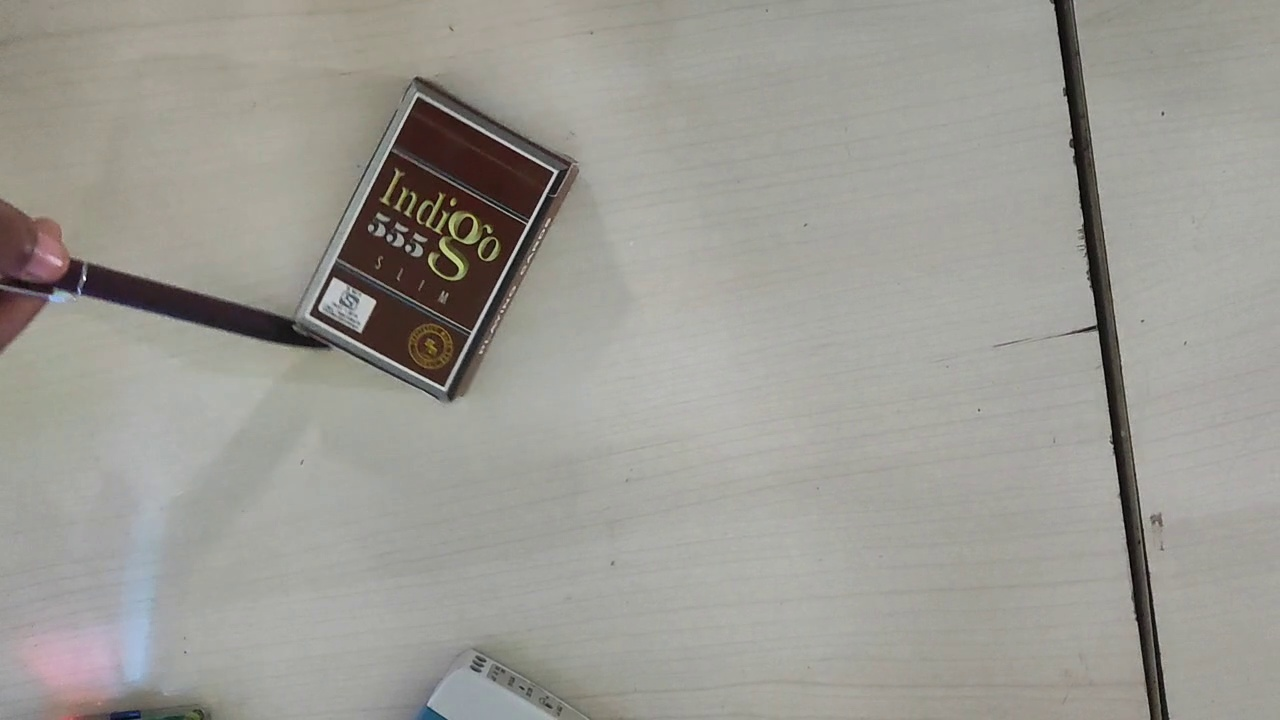BEX: (303, 92, 555, 388)
